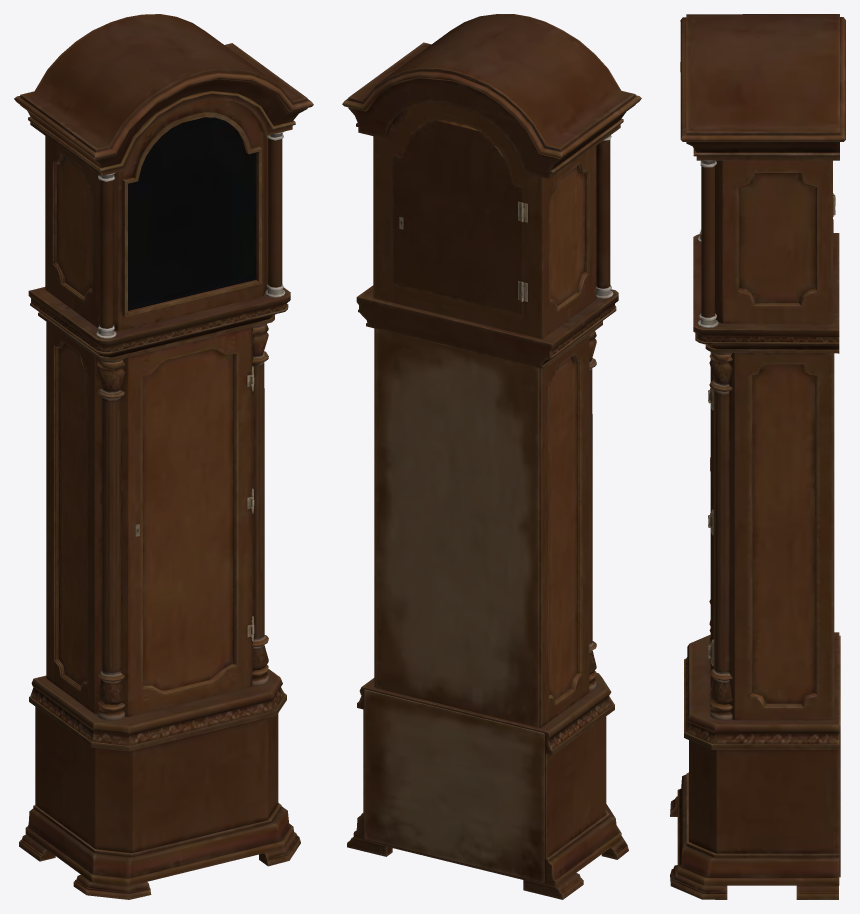
The model's file is grandfather_clock.glb.
The picture shows the model from 3 angles, left to right: view 1: azimuth 30°, elevation 25°; view 2: azimuth 150°, elevation 25°; view 3: azimuth 270°, elevation 25°; orthographic projection. The views are drawn at different scales.
Parts seen in each view (by area): view 1: vintage_grandfather_clock_01_body; view 2: vintage_grandfather_clock_01_body; view 3: vintage_grandfather_clock_01_body.
Boxes of the visible parts, box(x1,y1,x2,y2) form: vintage_grandfather_clock_01_body: box(14, 14, 313, 899); vintage_grandfather_clock_01_body: box(342, 14, 641, 899); vintage_grandfather_clock_01_body: box(670, 14, 845, 899).
Bounding box in the file's own units: 0.6255 × 2.19 × 0.4265.
Materials: 2 (2 with a texture image).
